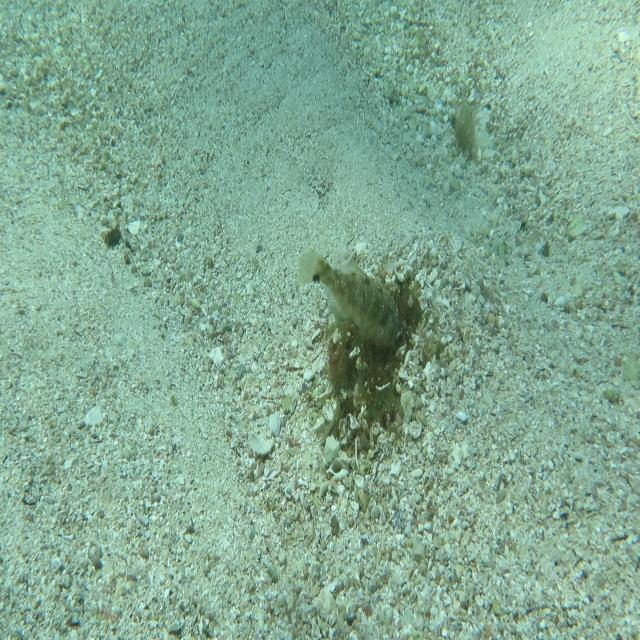NIP_CORE: (294, 243, 408, 358)
nest: (320, 259, 431, 458)
vegetation: (452, 100, 481, 162), (104, 222, 124, 251)
